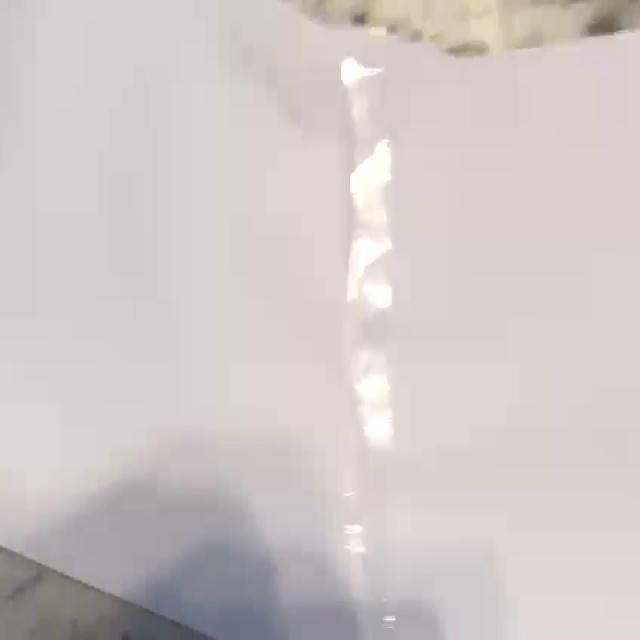road: (0, 1, 640, 639)
